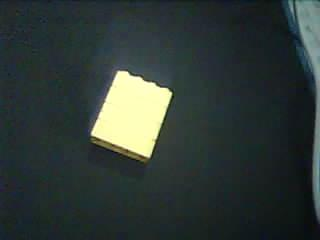lego: (88, 69, 173, 162)
